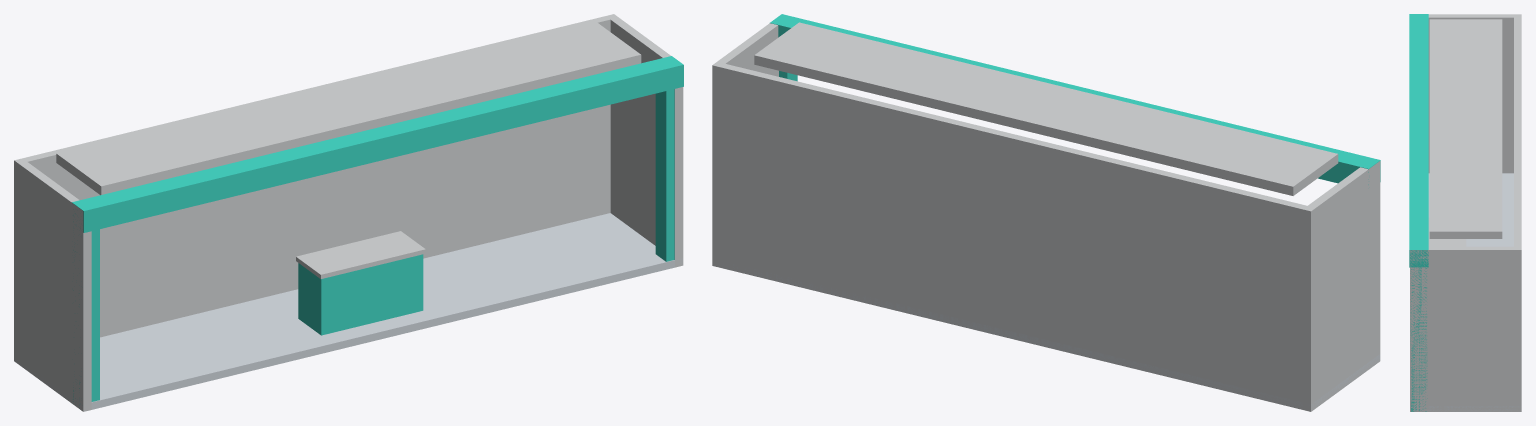
The picture shows the model from 3 angles, left to right: view 1: azimuth 30°, elevation 25°; view 2: azimuth 150°, elevation 25°; view 3: azimuth 270°, elevation 25°; orthographic projection. The views are drawn at different scales.
Parts seen in each view (by area): view 1: Exhibition Booth Concept; view 2: Exhibition Booth Concept; view 3: Exhibition Booth Concept.
Boxes of the visible parts, bbox=[...] form: Exhibition Booth Concept: bbox=[14, 14, 683, 411]; Exhibition Booth Concept: bbox=[712, 14, 1380, 411]; Exhibition Booth Concept: bbox=[1409, 14, 1521, 411].
Bounding box in the file's own units: 10 × 3.34 × 2.01.
